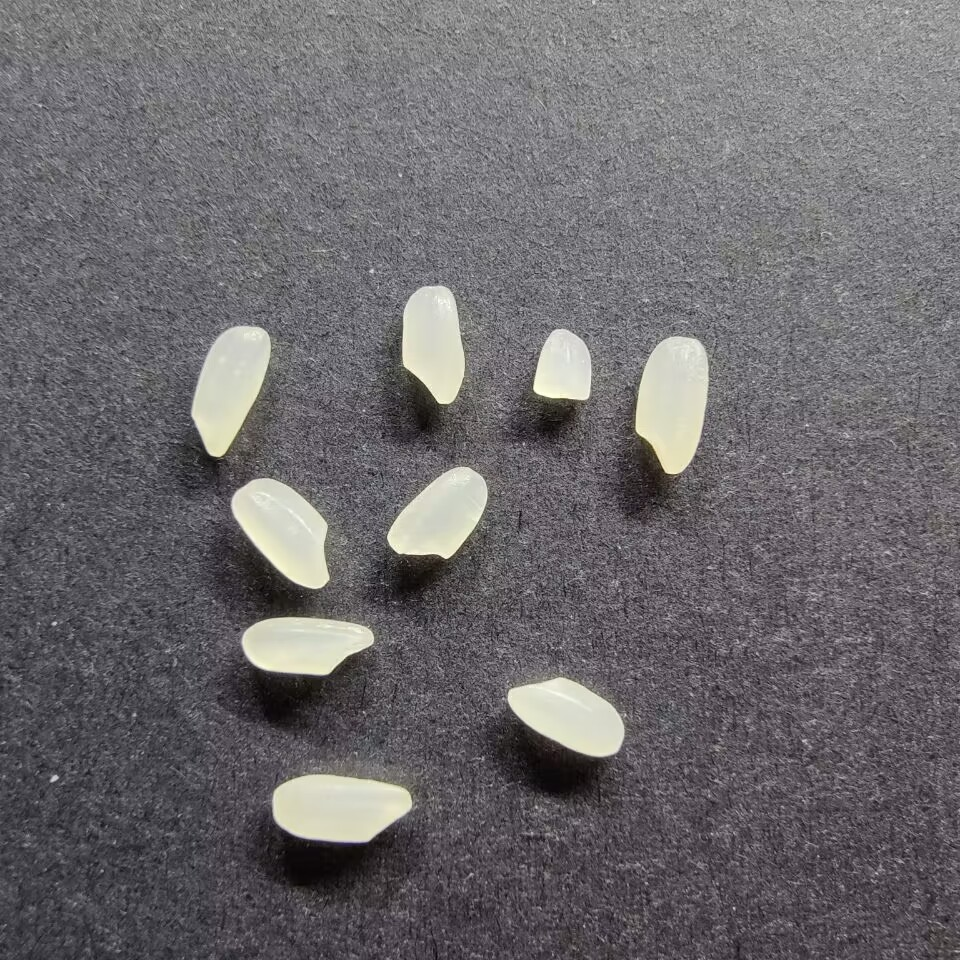broken: (531, 327, 594, 403)
rice: (229, 476, 331, 590), (188, 323, 272, 458), (632, 334, 712, 475), (269, 772, 414, 844), (385, 466, 490, 560), (505, 676, 625, 758), (239, 615, 376, 678), (399, 284, 467, 406)
